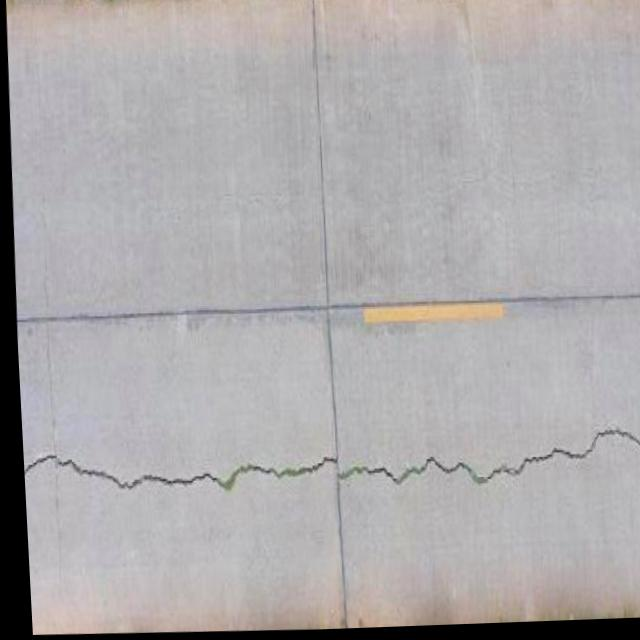Crack: (16, 379, 640, 541)
